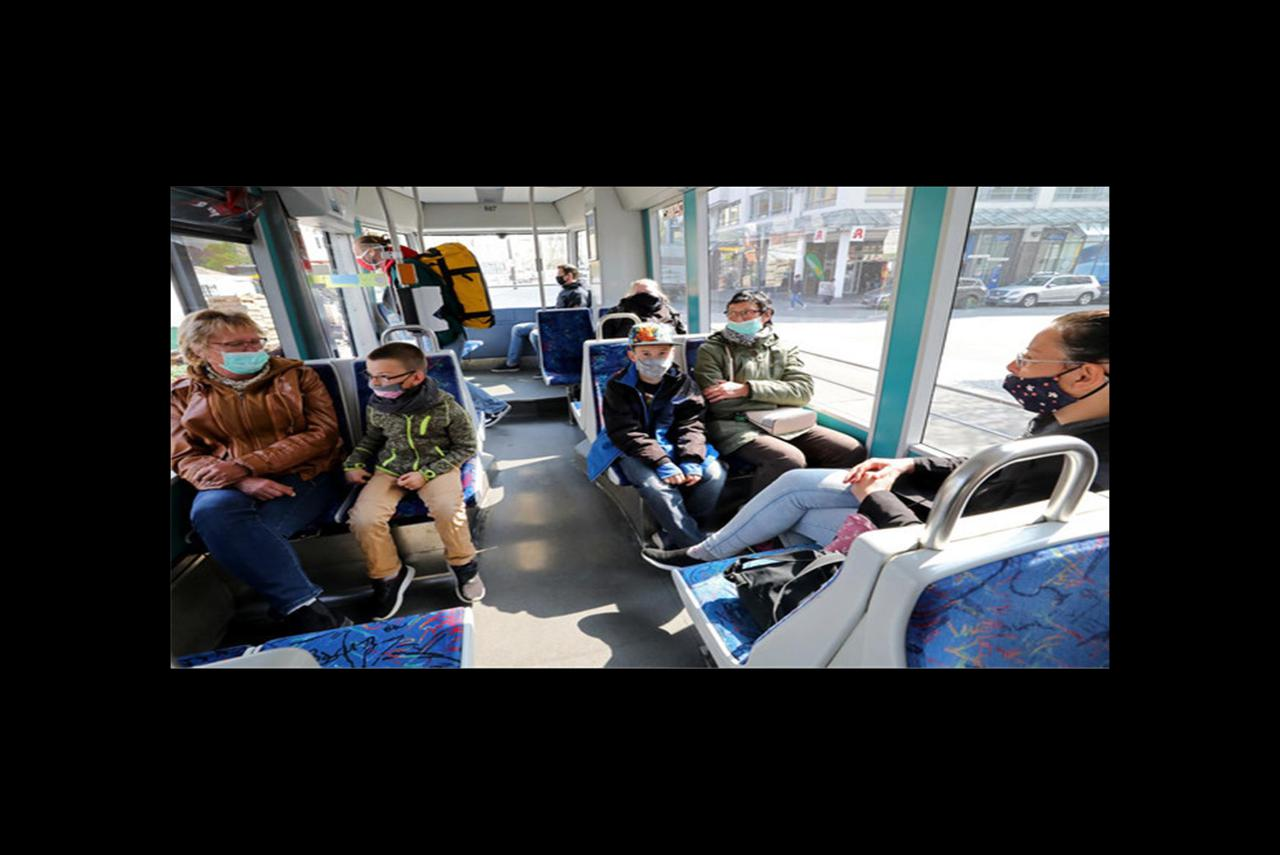mask_weared_incorrect: (1004, 338, 1078, 410), (364, 367, 410, 398)
with_mask: (214, 339, 276, 375), (634, 350, 674, 379), (724, 307, 763, 332), (347, 245, 380, 271), (628, 284, 662, 309), (552, 269, 573, 286)
